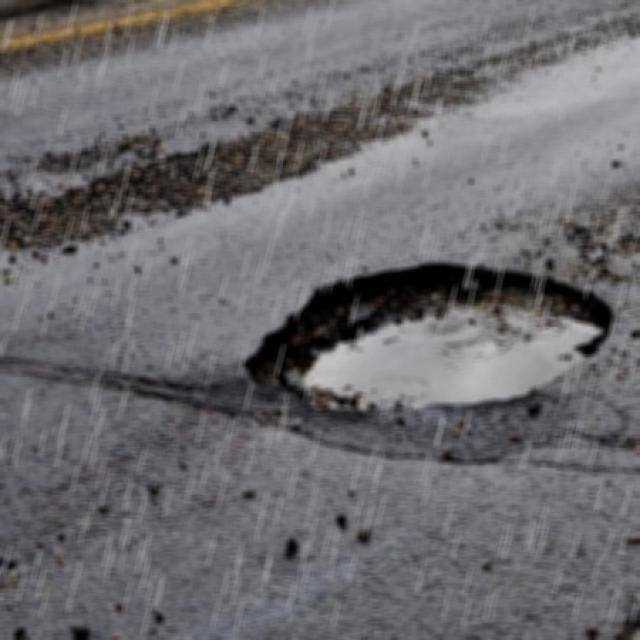road-pothole: (249, 267, 611, 426)
